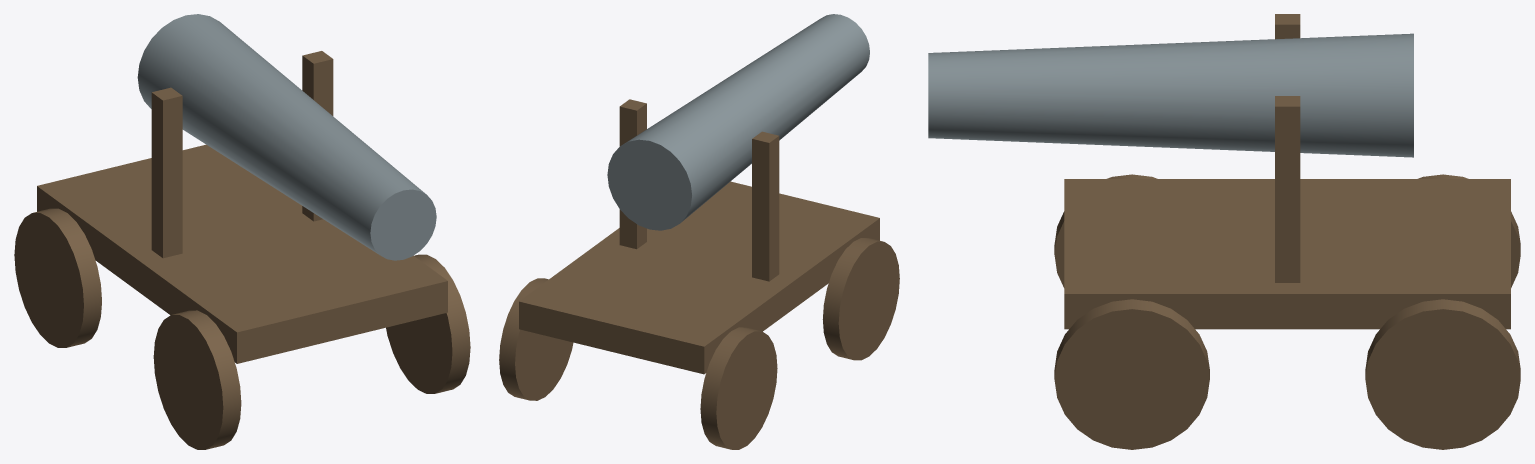
The model's file is bombard.glb.
3 renders of one model, left to right at view 1: azimuth 30°, elevation 25°; view 2: azimuth 150°, elevation 25°; view 3: azimuth 270°, elevation 25°, orthographic. The views are drawn at different scales.
Parts seen in each view (by area): view 1: Vehicle, beam; view 2: Vehicle, beam; view 3: Vehicle, beam.
Boxes of the visible parts, left/top/right/bottom form: Vehicle: left=14, top=51, right=470, bottom=449; beam: left=137, top=14, right=436, bottom=260; Vehicle: left=499, top=99, right=899, bottom=449; beam: left=607, top=14, right=869, bottom=230; Vehicle: left=1054, top=14, right=1520, bottom=449; beam: left=928, top=33, right=1413, bottom=157.
Bounding box in the file's own units: 1.64 × 1.95 × 3.05.
